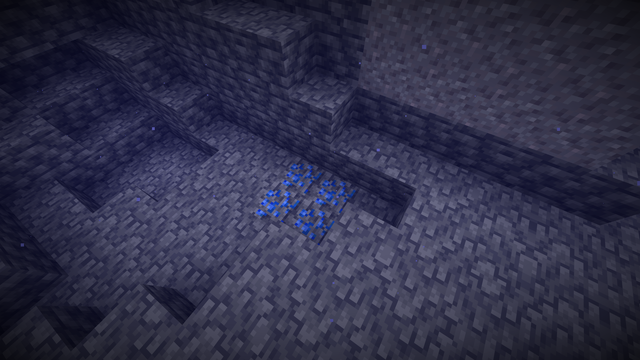lapis: (253, 157, 359, 246)
